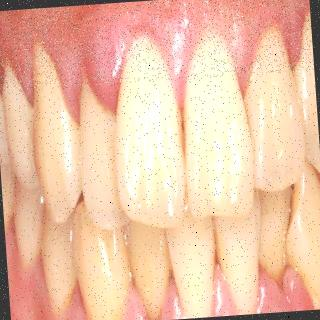Gum Swelling: (33, 10, 128, 120), (146, 9, 204, 108), (255, 258, 311, 320), (218, 19, 266, 91), (208, 270, 243, 318), (156, 281, 198, 317), (126, 284, 159, 320)
maligned: (74, 80, 123, 218), (253, 174, 300, 283)
